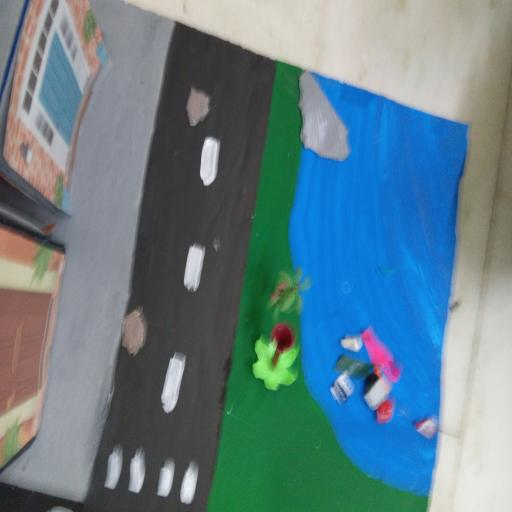encroachment: (297, 74, 350, 163)
porthole: (124, 311, 148, 356), (189, 88, 210, 128)
